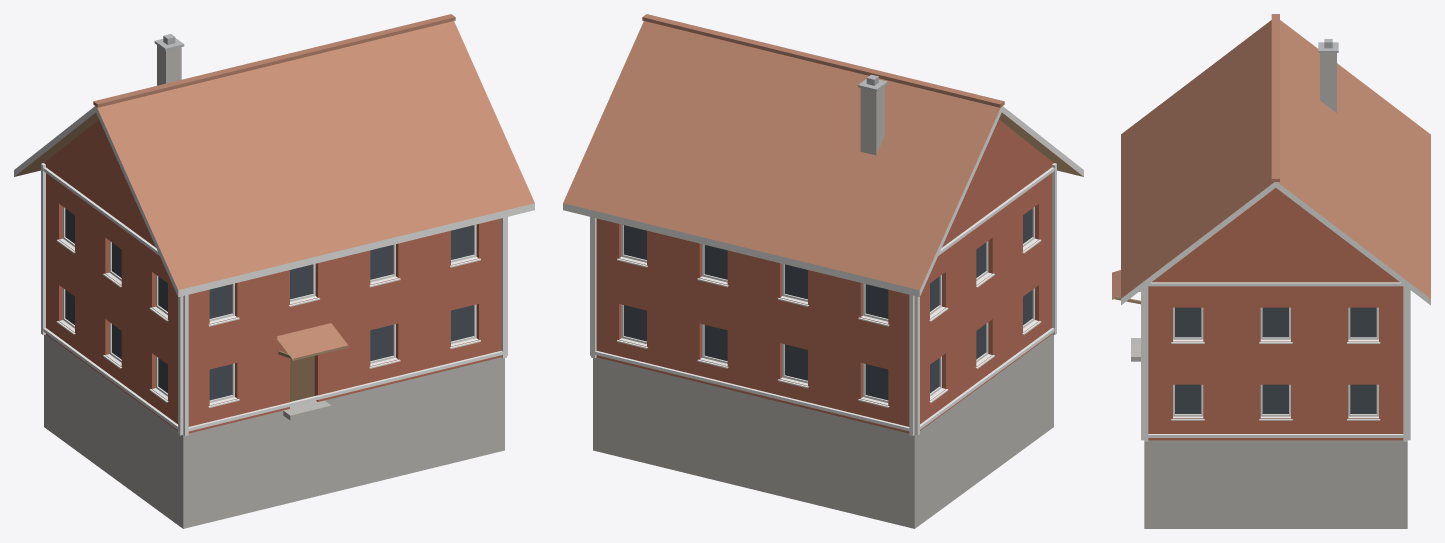
File: nordic_house_2_m.glb
3 views of the same model, side by side, from view 1: azimuth 30°, elevation 25°; view 2: azimuth 150°, elevation 25°; view 3: azimuth 270°, elevation 25° (orthographic). The views are drawn at different scales.
Visible parts, largest first — view 1: nordic_house_2_m; view 2: nordic_house_2_m; view 3: nordic_house_2_m.
Part boxes in pixels (left/top/right/bottom): nordic_house_2_m: left=14, top=14, right=534, bottom=528; nordic_house_2_m: left=563, top=14, right=1083, bottom=528; nordic_house_2_m: left=1112, top=14, right=1430, bottom=528.
Size of the model in its own units: 13.34 by 14.28 by 10.9.
